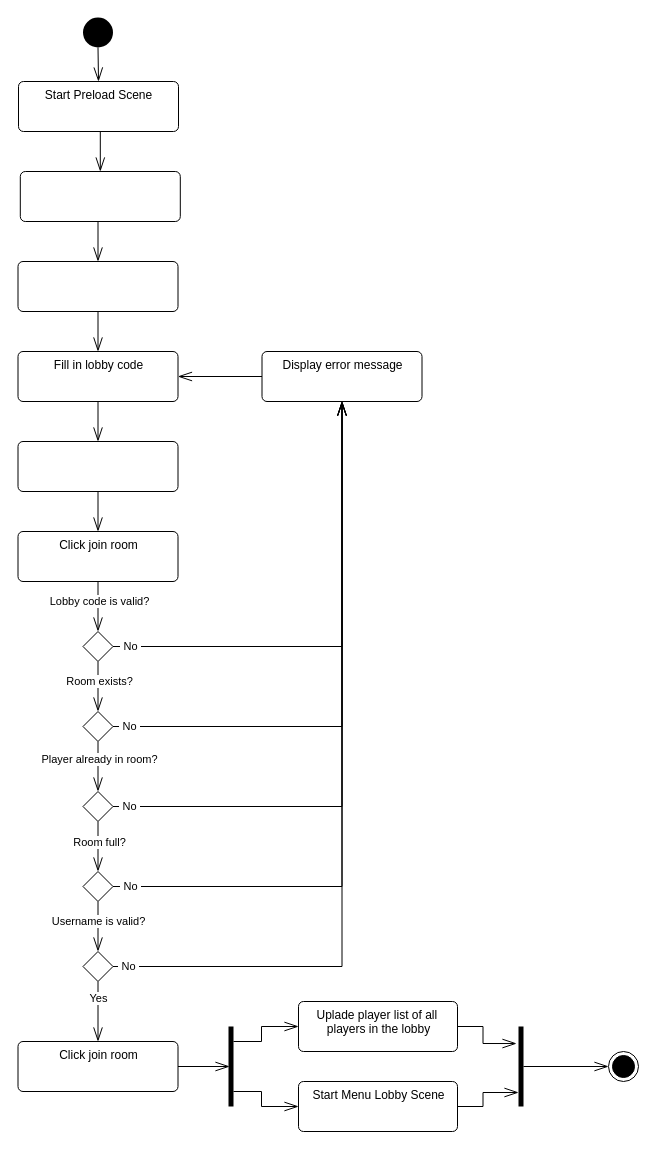
Image size: 656x1149. Some labels were removed from this diagram. The centre of each missing label's shape, as x and y in pixels:
Fill in username: the point at 97,466
Select Join room button: the point at 97,286
Start Menu Scene: the point at 99,196
